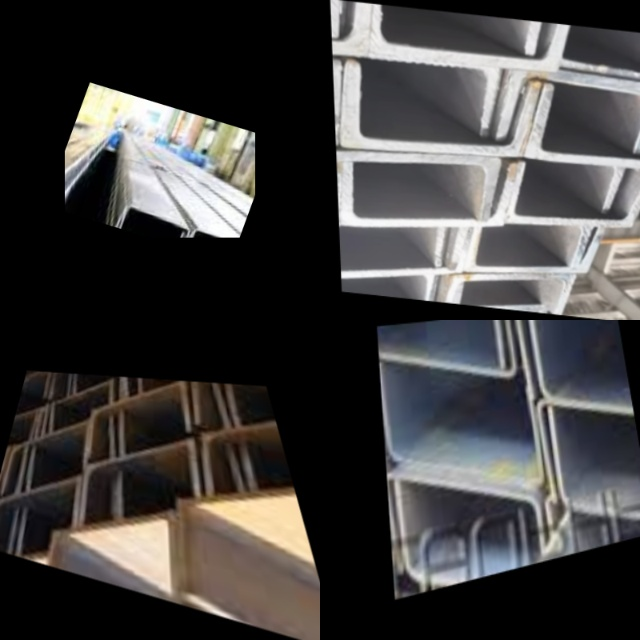Shveller: (382, 348, 542, 509), (179, 463, 320, 634), (399, 454, 556, 597), (339, 63, 540, 167), (387, 450, 543, 580), (338, 145, 515, 243), (336, 142, 502, 242), (541, 389, 640, 550), (82, 429, 204, 554), (49, 492, 181, 605), (370, 4, 571, 78), (552, 393, 640, 554), (117, 436, 249, 543), (332, 53, 497, 138), (520, 320, 634, 432), (497, 69, 640, 156), (531, 320, 635, 436), (198, 402, 301, 510), (18, 468, 115, 582), (341, 0, 541, 55), (120, 378, 236, 471), (87, 378, 195, 477), (507, 161, 640, 237), (527, 84, 640, 169), (450, 213, 587, 283), (464, 217, 602, 285), (0, 465, 79, 572), (27, 414, 115, 508), (490, 156, 618, 219), (441, 262, 575, 316), (339, 217, 442, 286), (529, 21, 640, 75), (34, 378, 114, 444), (236, 409, 295, 491), (562, 25, 640, 86), (195, 382, 279, 430), (341, 269, 434, 302), (5, 403, 54, 464), (16, 371, 71, 419), (4, 405, 46, 466), (330, 0, 372, 59), (114, 207, 186, 238), (120, 207, 190, 238), (50, 372, 120, 403), (229, 384, 278, 428), (0, 447, 27, 520), (74, 374, 147, 398)
